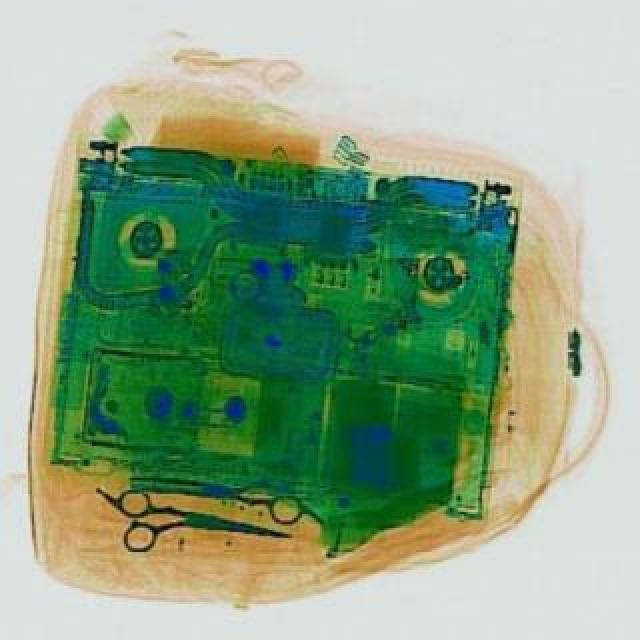pliers: (112, 486, 294, 566), (126, 446, 306, 524)
